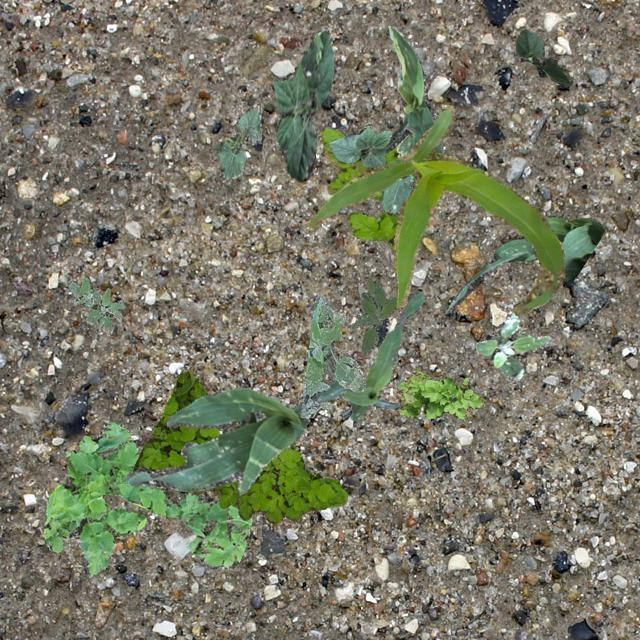crop: (306, 103, 564, 314), (125, 378, 346, 494), (444, 215, 604, 312), (326, 290, 424, 420), (270, 28, 334, 180), (384, 24, 440, 188), (216, 104, 260, 178), (516, 29, 572, 84), (381, 132, 414, 214), (328, 125, 390, 167)
weed: (132, 369, 346, 524), (42, 421, 250, 576), (320, 128, 398, 248), (300, 296, 364, 418), (474, 310, 550, 380), (396, 370, 484, 418), (348, 278, 396, 356), (68, 276, 124, 334)
